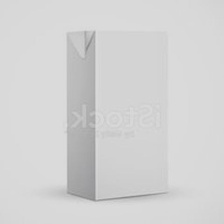carton: (57, 20, 177, 205)
